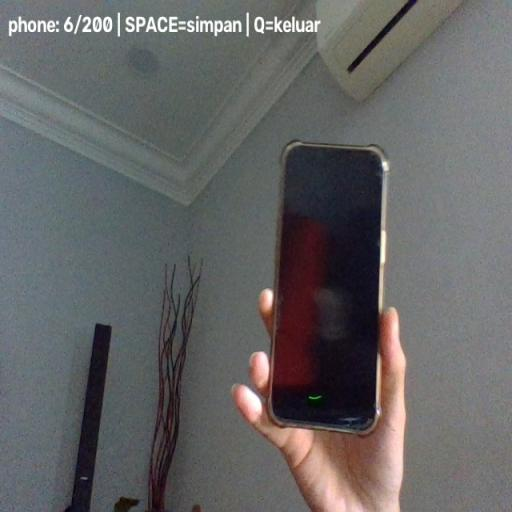Phone: (265, 139, 390, 438)
